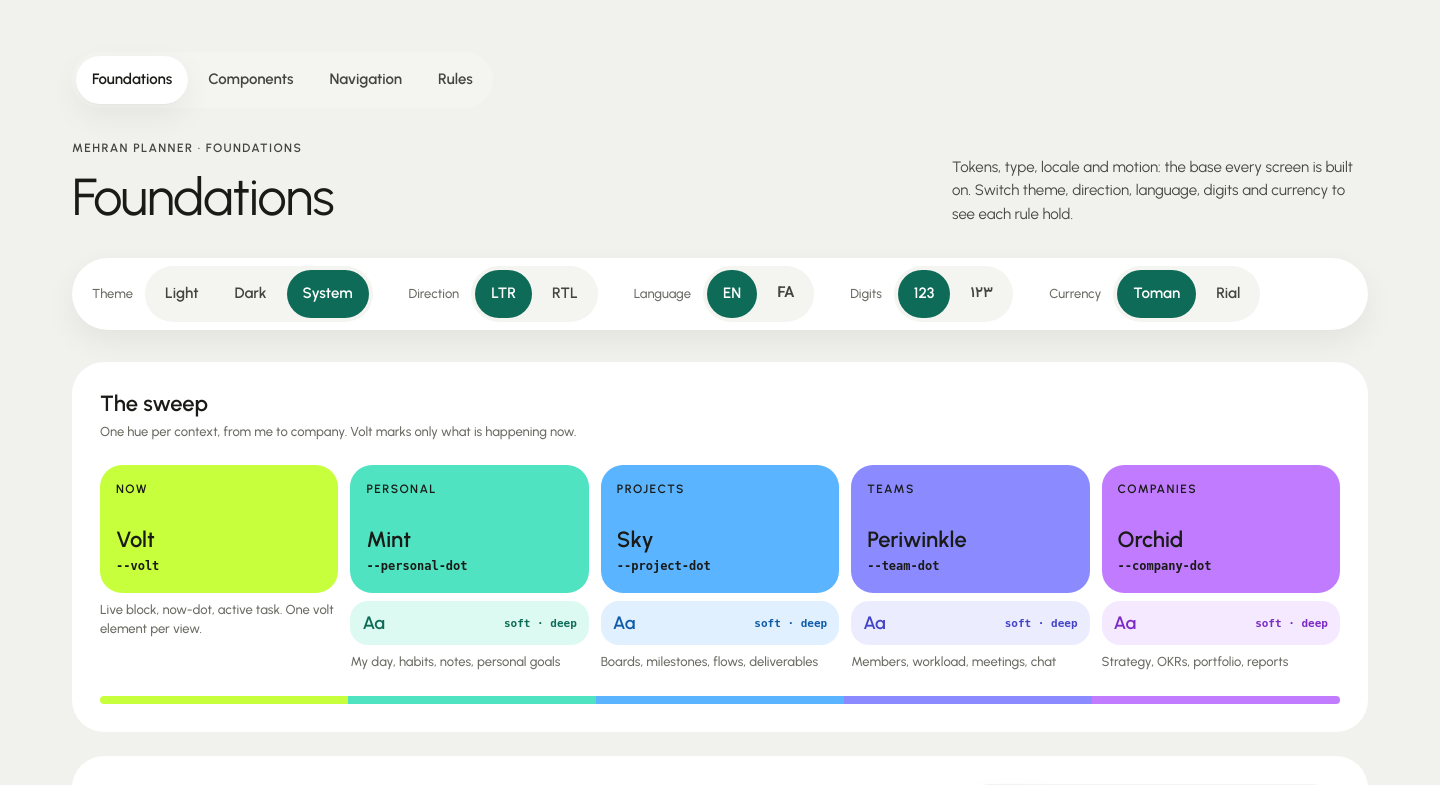
Scenario: StyleguideView › switches to Persian: direction, digits and Jalali dates follow
The width and height of the screenshot is (1440, 785).
What coordinates should you click on to do the following:
click the radio button with aria-label "فارسی"
I would click on:
 (786, 294)
Its box is [761,270,810,318].
(page scrolled)
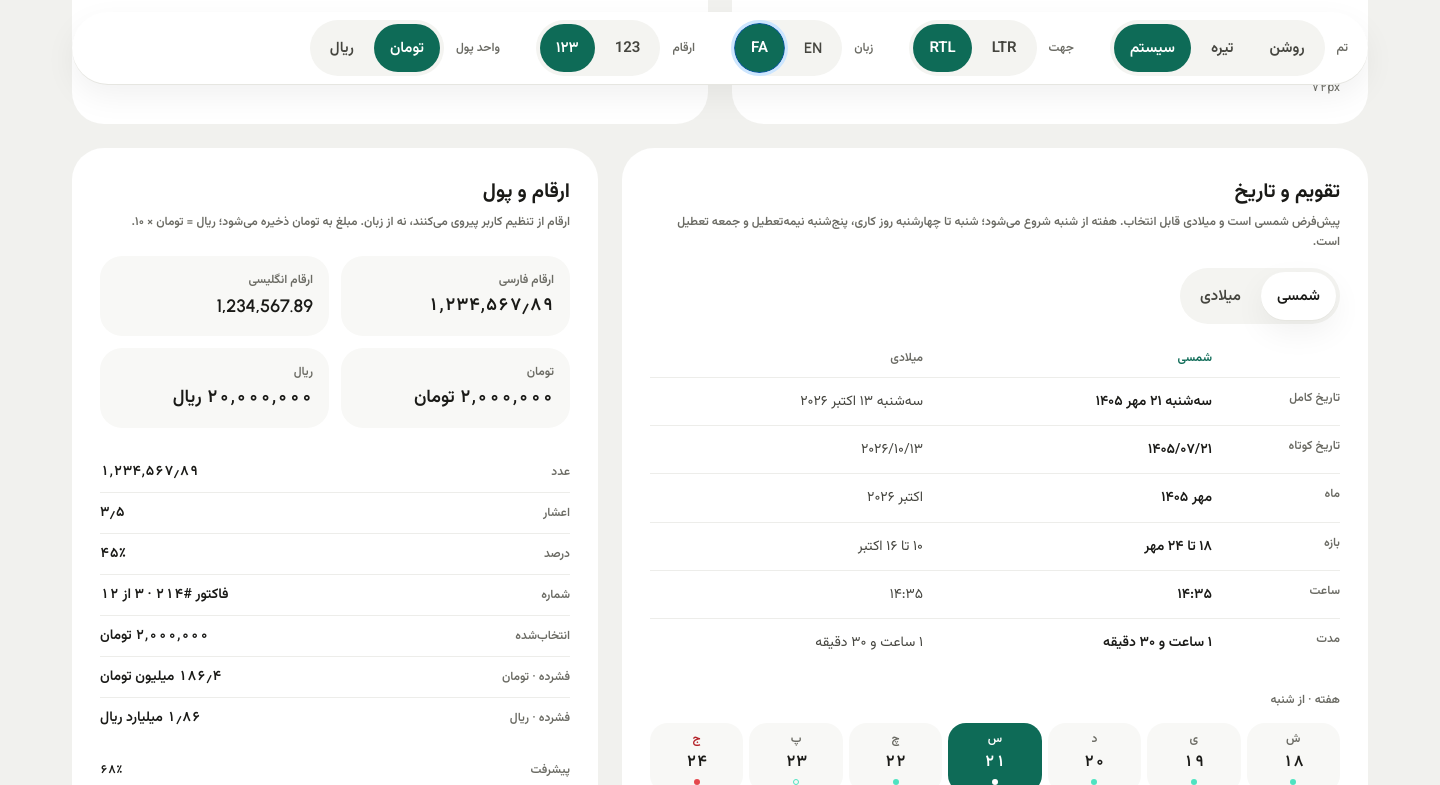
Now the text "سه‌شنبه ۲۱ مهر ۱۴۰۵" is shown, box [1096,391,1212,413]
